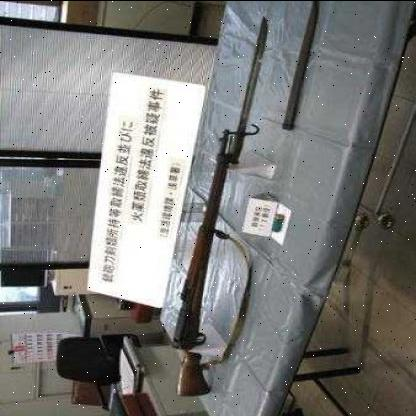rifle: (167, 122, 250, 396)
